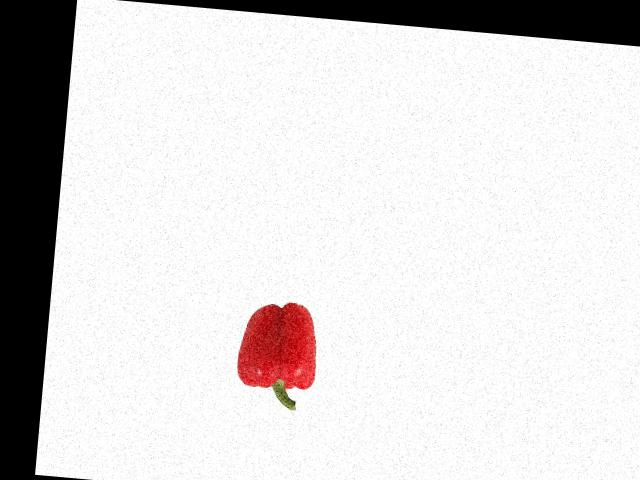bell_pepper: (222, 296, 325, 411)
